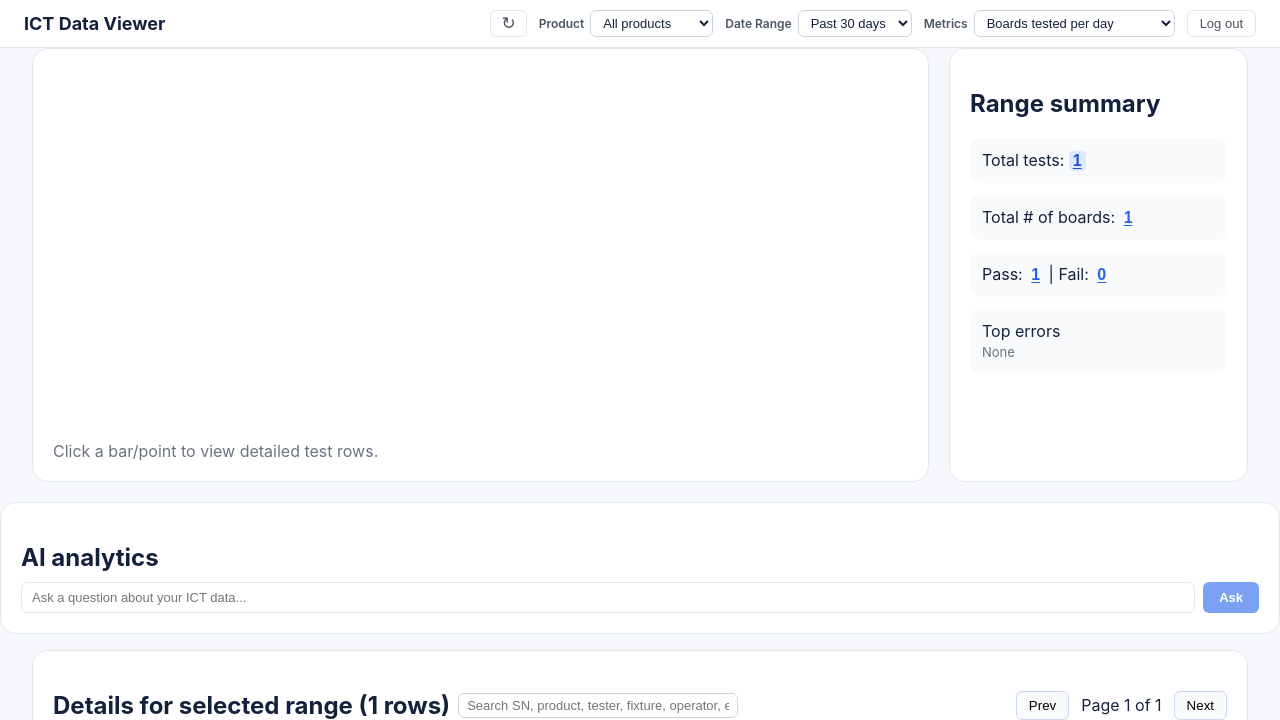
Test: HomePage › error and timeout behaviour › shows error banner (not full-page error) when refresh fails with stale data
Click the button titled "Reload data" at (509, 24), box 490,10 -> 527,37
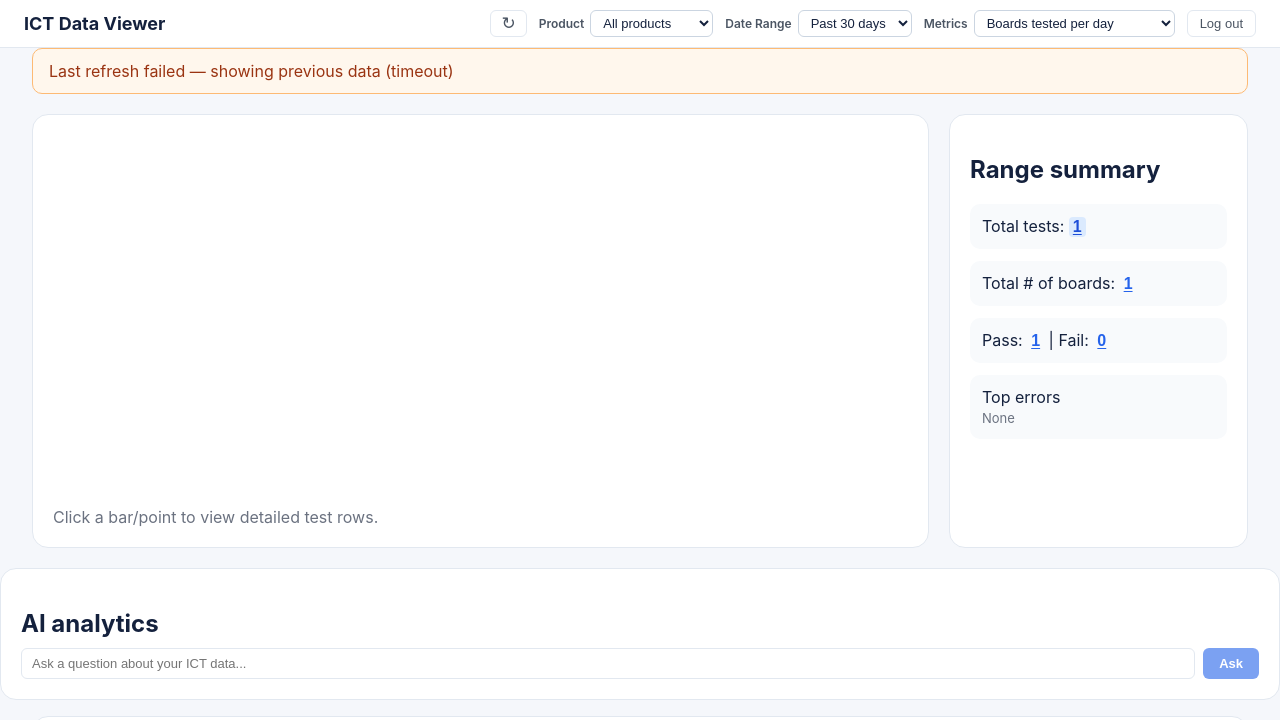
Check: the text "Last refresh failed — showing previous data (timeout)" is shown, box 32,48 -> 1248,94
